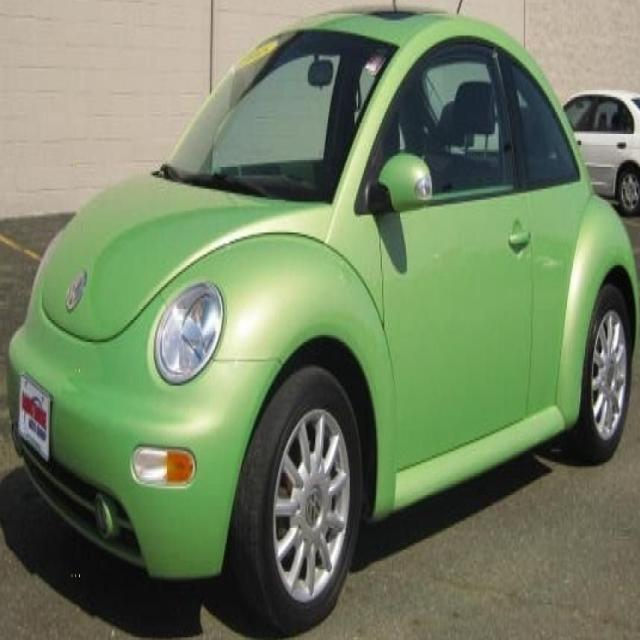green: (15, 6, 639, 591)
